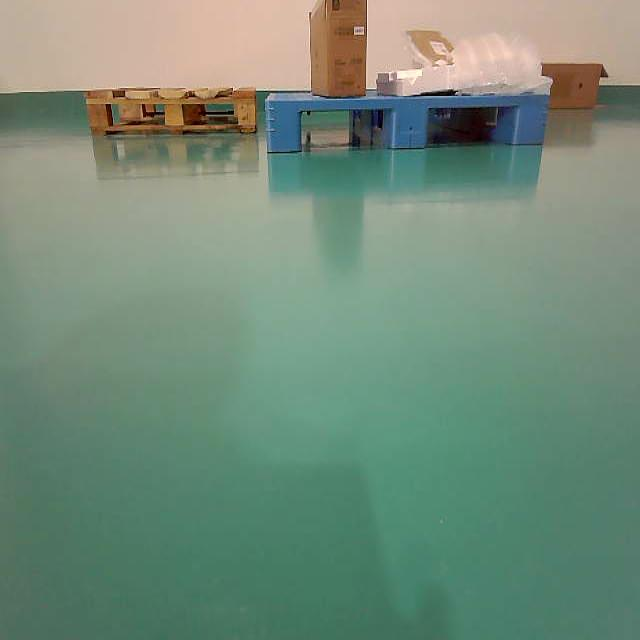euro: (87, 88, 256, 133)
